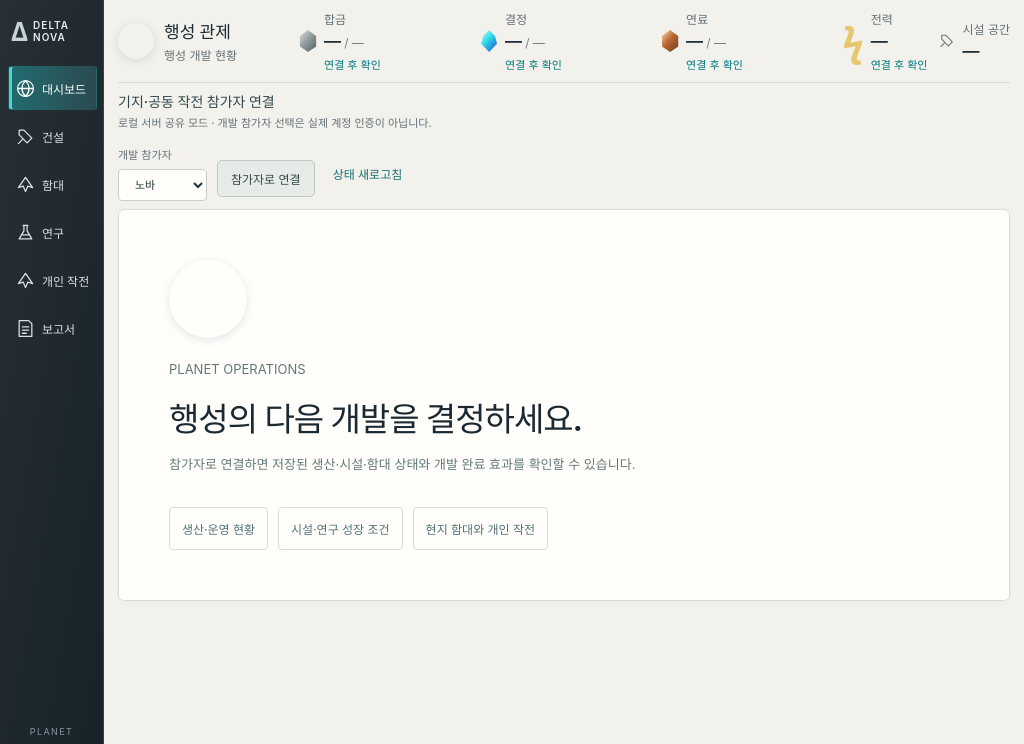
Scenario: includes required power recovery in the carrier path and exposes the blocker
This screenshot has width=1024, height=744.
Click the button "참가자로 연결" at [266, 178], box [217,160,315,197]
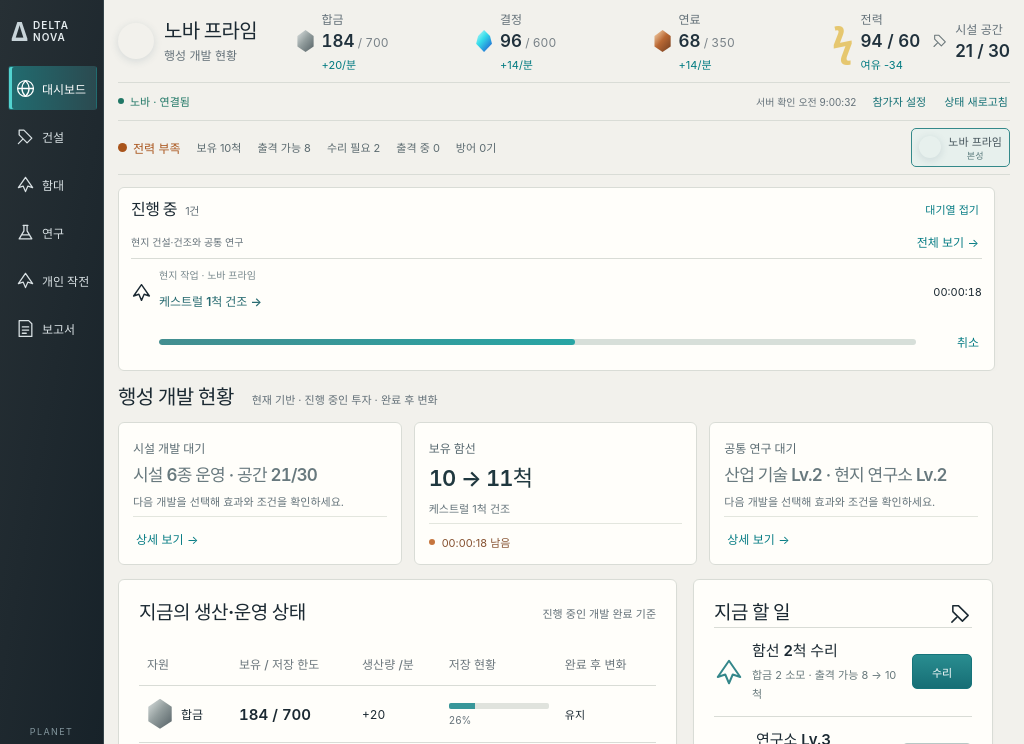
Check: the heading "노바 프라임" is shown, box [164,19,257,43]
Click the button "연구" at [53, 232], box [8,210,97,254]
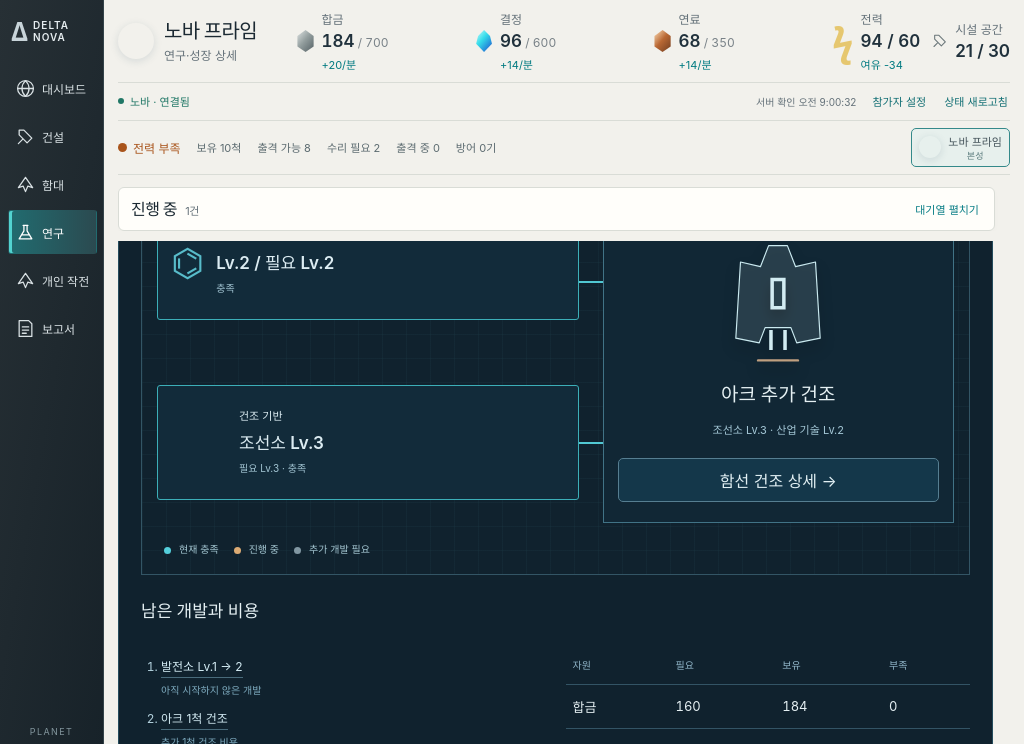
Check: the cells read "160", "184", "0", in this order, box [668,684,775,728]; [775,684,882,728]; [882,684,970,728]
